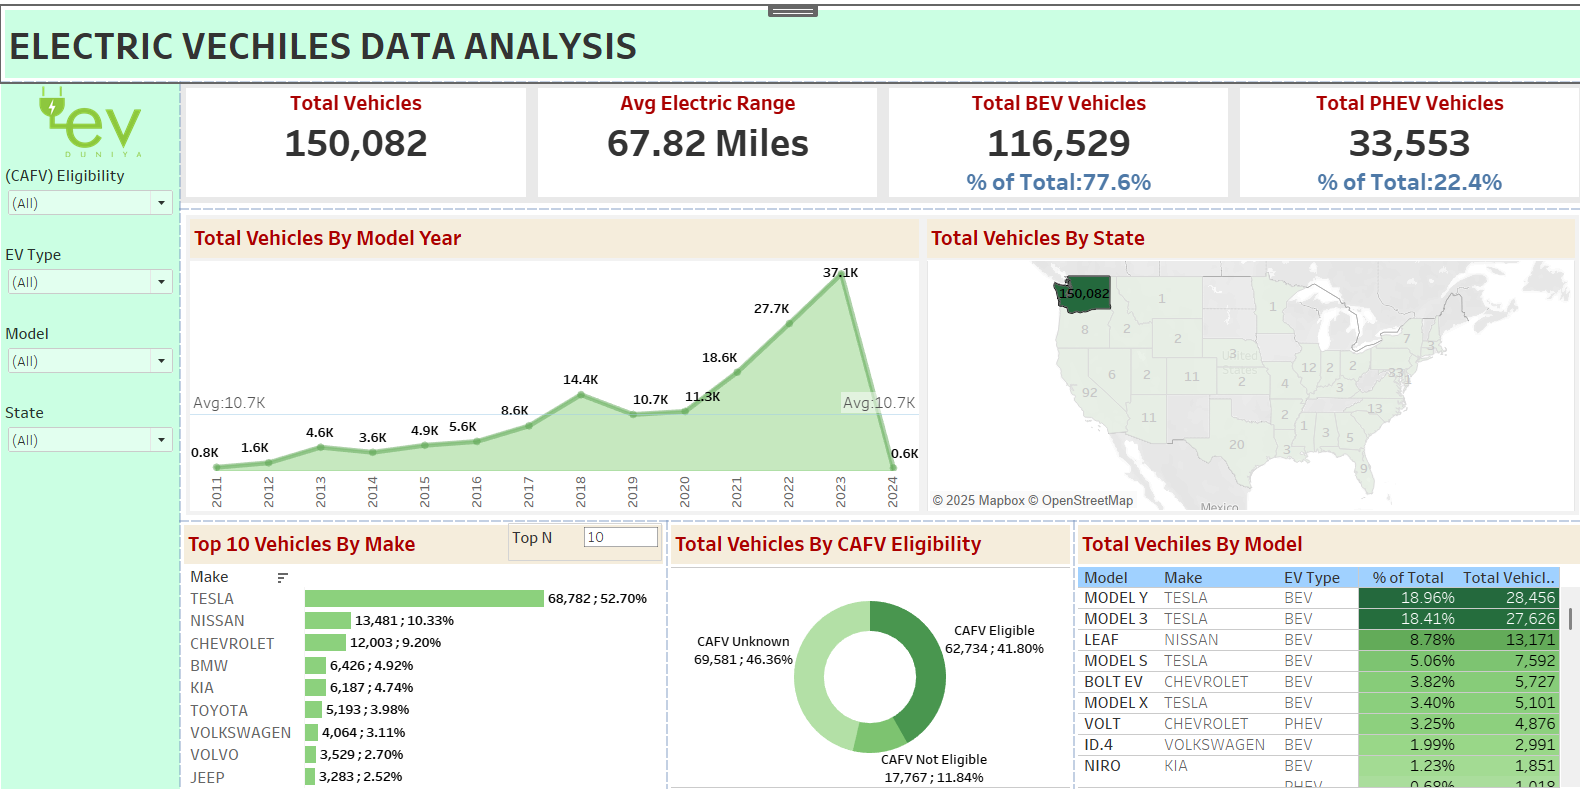

What the dashboard file says about the page in this screenshot:
{"tool":"tableau","page":{"name":"Dashboard 1","canvas":[1000,1000],"units":"permille","ordinal":0},"visuals":[{"type":"title","box":[5,10,990,94.8]},{"type":"image","param":"C:/Users/mdmaa/Downloads/EVDuinya-Logo.png","box":[5,104.7,111.9,98.5]},{"type":"worksheet","title":"Total Vehicles","mark":"Automatic","box":[116.9,104.7,220,150.9]},{"type":"worksheet","title":"Avg Electric Range","mark":"Automatic","box":[336.9,104.7,219.4,150.9]},{"type":"worksheet","title":"Total BEV Vehicles","mark":"Automatic","box":[556.2,104.7,219.4,150.9]},{"type":"worksheet","title":"Total PHEV Vehicles ","mark":"Automatic","box":[775.6,104.7,219.4,150.9]},{"type":"filter","title":"Total Vehicles By Model Year","param":"[federated.0soh6950h5350e1bsd80c1lfhguc].[none:Clean Alternative Fuel Vehicle (C","box":[5,203.2,111.9,98.5]},{"type":"worksheet","title":"Total Vehicles By Model Year","mark":"Area","rows":["Calculation_452048874086842368","Calculation_452048874086842368"],"cols":["Model Year"],"box":[120.6,270.5,460.6,374.1]},{"type":"worksheet","title":"Total Vehicles By State","mark":"Multipolygon","box":[581.3,270.5,410,374.1]},{"type":"filter","title":"Total Vehicles By Model Year","param":"[federated.0soh6950h5350e1bsd80c1lfhguc].[none:Electric Vehicle Type:nk]","box":[5,301.8,111.9,98.5]},{"type":"filter","title":"Total Vehicles By Model Year","param":"[federated.0soh6950h5350e1bsd80c1lfhguc].[none:Model:nk]","box":[5,400.2,111.9,98.5]},{"type":"filter","title":"Total Vehicles By Model Year","param":"[federated.0soh6950h5350e1bsd80c1lfhguc].[none:State:nk]","box":[5,498.8,111.9,98.5]},{"type":"blank","box":[5,597.3,111.9,98.5]},{"type":"worksheet","title":"Top 10 Vehicles By Make","mark":"Automatic","rows":["Make"],"cols":["Calculation_452048874086842368"],"box":[116.9,652.1,304.4,337.9]},{"type":"worksheet","title":"Total Vehicles By CAFV Eligibility","mark":"Pie","rows":["Calculation_452048874107129865","Calculation_452048874107129865"],"box":[421.2,652.1,254.4,337.9]},{"type":"worksheet","title":"Total Vechiles By Model","mark":"Square","rows":["Model","Make","Electric Vehicle Type"],"box":[675.6,652.1,319.4,337.9]},{"type":"parameter","param":"[Parameters].[Parameter 1]","box":[321.9,654.6,96.2,47.4]},{"type":"blank","box":[5,695.8,111.9,98.5]},{"type":"blank","box":[5,794.3,111.9,98.5]},{"type":"blank","box":[5,892.8,111.9,97.2]}]}

Visuals, with their boxes on the dashboard's canvas, which has no fixed pixel size, in thousandths of its width and height (x1, y1, x2, y2). These are canvas units, not pixel positions in the 1580x789 screenshot, which may show the page scaled, cropped or inside an application window:
title: bbox=[5, 10, 995, 105]
image: bbox=[5, 105, 117, 203]
"Total Vehicles" worksheet: bbox=[117, 105, 337, 256]
"Avg Electric Range" worksheet: bbox=[337, 105, 556, 256]
"Total BEV Vehicles" worksheet: bbox=[556, 105, 776, 256]
"Total PHEV Vehicles " worksheet: bbox=[776, 105, 995, 256]
"Total Vehicles By Model Year" filter: bbox=[5, 203, 117, 302]
"Total Vehicles By Model Year" worksheet (Area marks): bbox=[121, 270, 581, 645]
"Total Vehicles By State" worksheet (Multipolygon marks): bbox=[581, 270, 991, 645]
"Total Vehicles By Model Year" filter: bbox=[5, 302, 117, 400]
"Total Vehicles By Model Year" filter: bbox=[5, 400, 117, 499]
"Total Vehicles By Model Year" filter: bbox=[5, 499, 117, 597]
blank: bbox=[5, 597, 117, 696]
"Top 10 Vehicles By Make" worksheet: bbox=[117, 652, 421, 990]
"Total Vehicles By CAFV Eligibility" worksheet (Pie marks): bbox=[421, 652, 676, 990]
"Total Vechiles By Model" worksheet (Square marks): bbox=[676, 652, 995, 990]
parameter: bbox=[322, 655, 418, 702]
blank: bbox=[5, 696, 117, 794]
blank: bbox=[5, 794, 117, 893]
blank: bbox=[5, 893, 117, 990]
